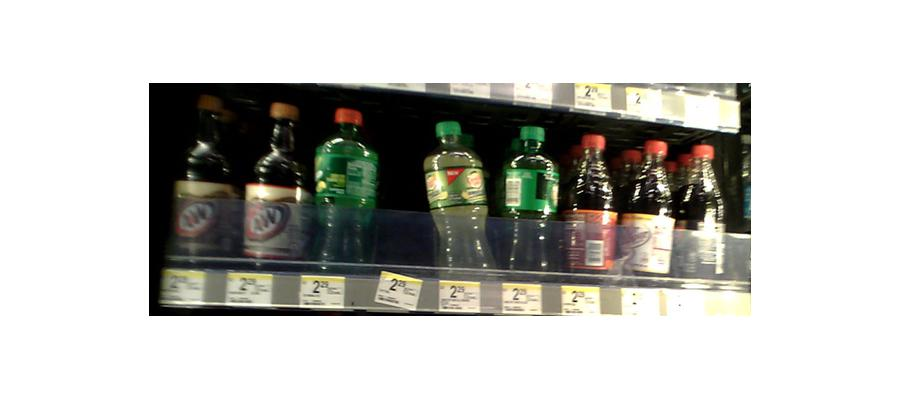bottle: (170, 86, 241, 269), (310, 107, 378, 267), (425, 120, 491, 277), (245, 109, 305, 269), (495, 126, 558, 276), (563, 130, 618, 279), (676, 137, 729, 287), (623, 136, 675, 282)
